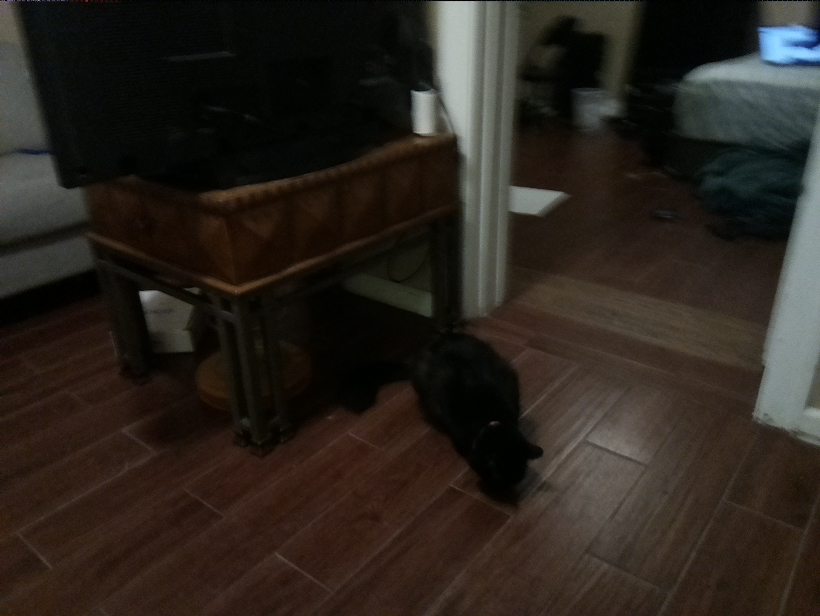cat: (386, 325, 553, 502)
